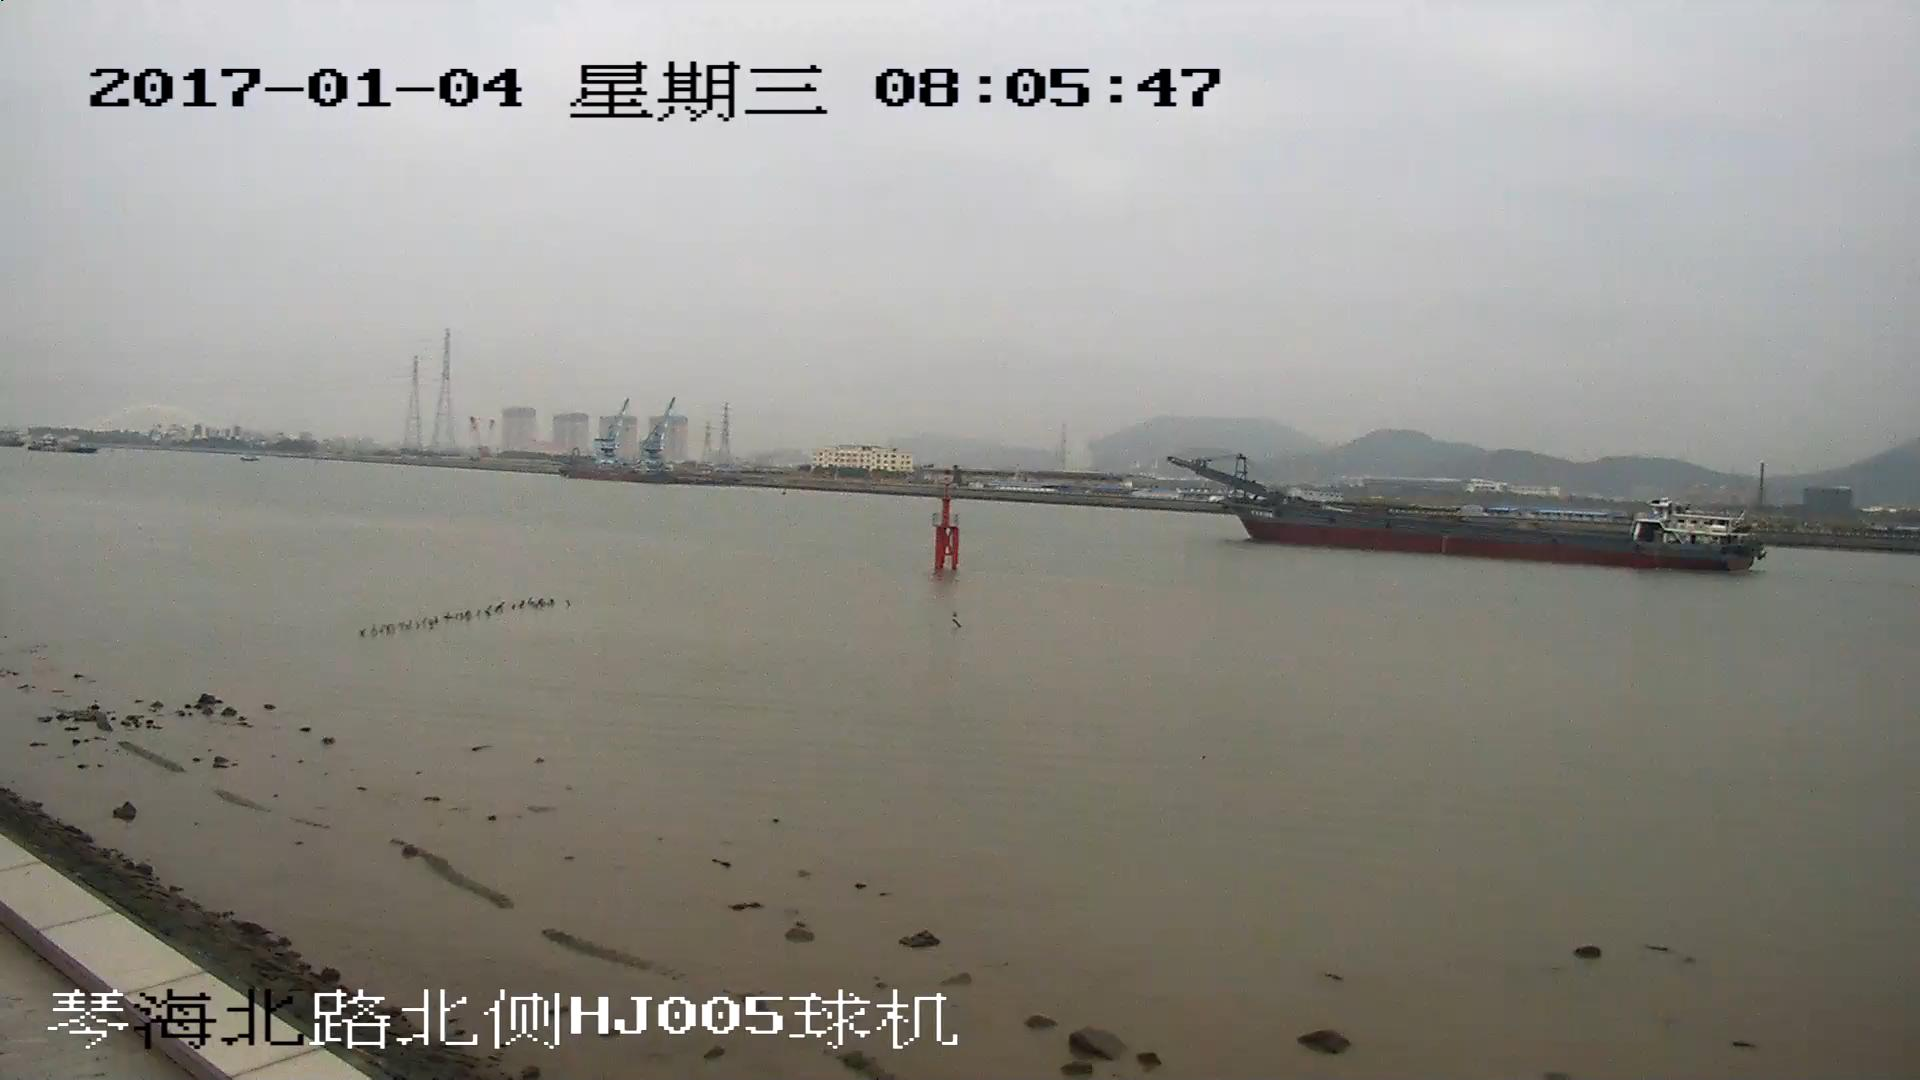bulk cargo carrier: (1172, 458, 1762, 570)
